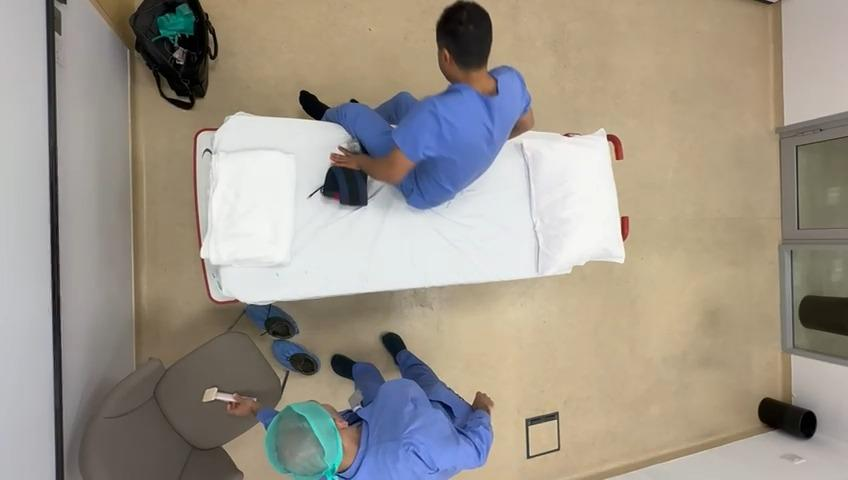bed: (192, 116, 626, 302)
prepstick: (321, 167, 368, 206), (202, 388, 235, 402)
